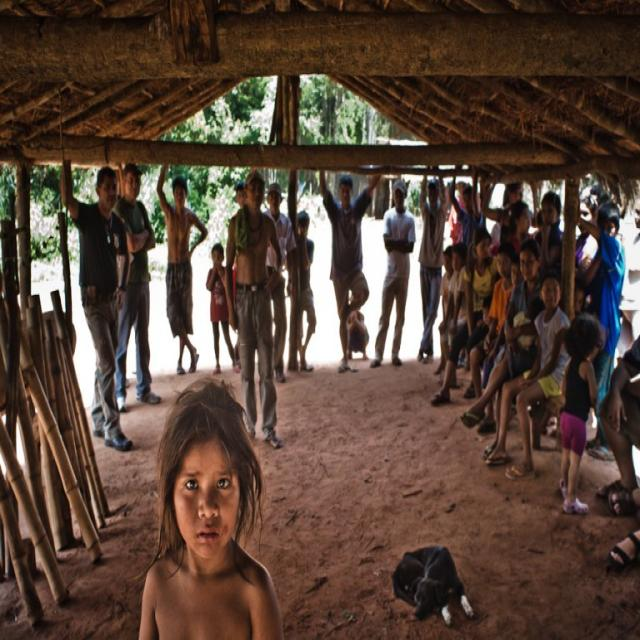body: (130, 372, 290, 638), (58, 147, 135, 455), (458, 237, 545, 460), (483, 270, 572, 481), (223, 168, 286, 452), (575, 197, 628, 463), (109, 158, 162, 414), (428, 227, 499, 408), (318, 168, 381, 370), (155, 150, 209, 377), (591, 330, 639, 572), (556, 310, 606, 516), (368, 175, 417, 369), (415, 160, 459, 365), (467, 239, 516, 401), (264, 180, 298, 384), (431, 242, 473, 389), (205, 240, 237, 376), (572, 182, 613, 274), (480, 169, 540, 227), (296, 209, 316, 373), (532, 188, 564, 283), (448, 164, 482, 252), (433, 244, 455, 377), (506, 199, 535, 256), (345, 308, 371, 362), (446, 176, 466, 238), (510, 252, 525, 288), (235, 180, 247, 212), (532, 208, 542, 243)
